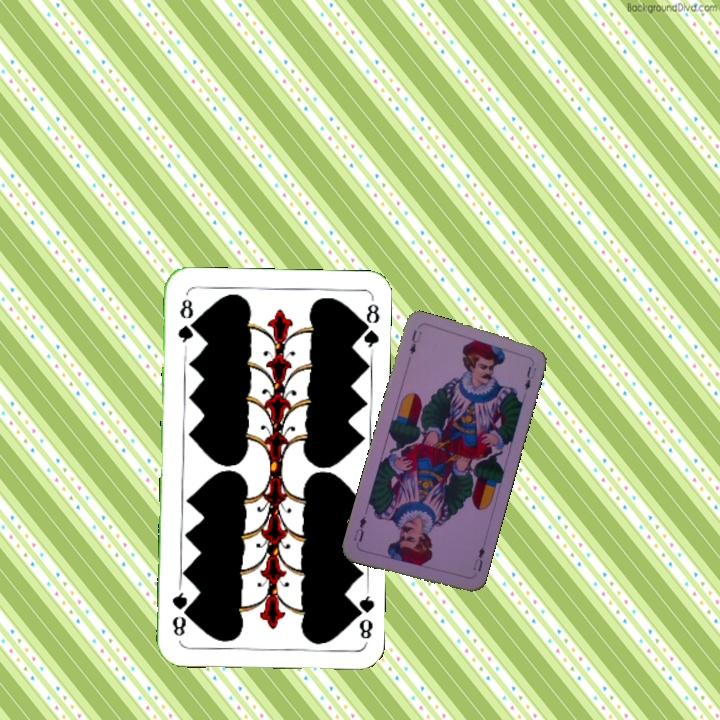EU: (405, 326, 425, 357), (469, 543, 488, 574)
G8: (349, 585, 377, 645), (173, 295, 197, 351)
